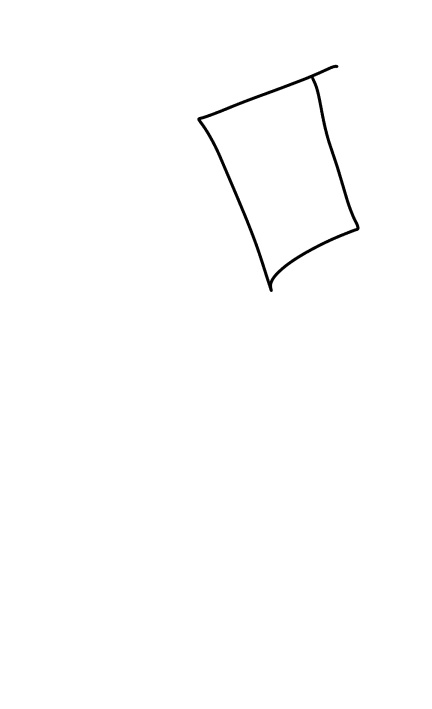Square: (189, 60, 368, 297)
